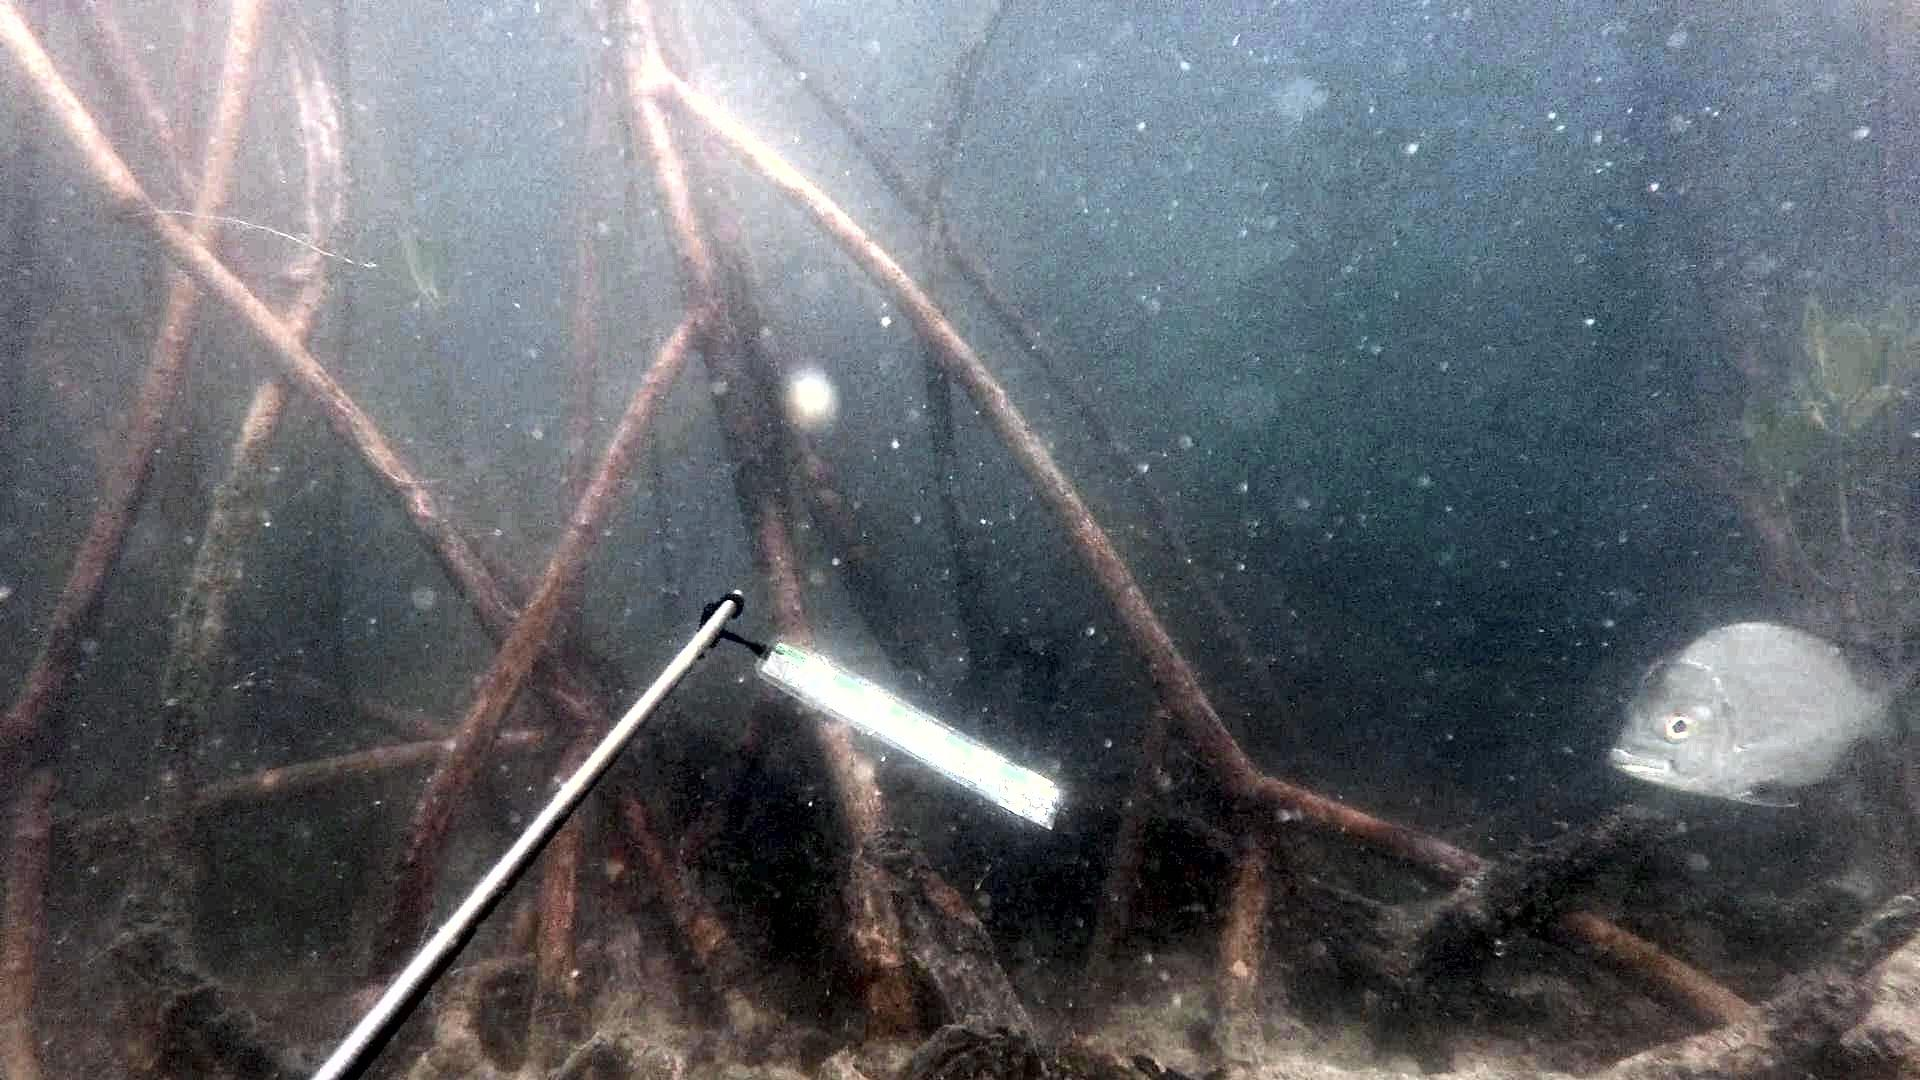acanthopagrus palmaris: (1593, 603, 1920, 825)
